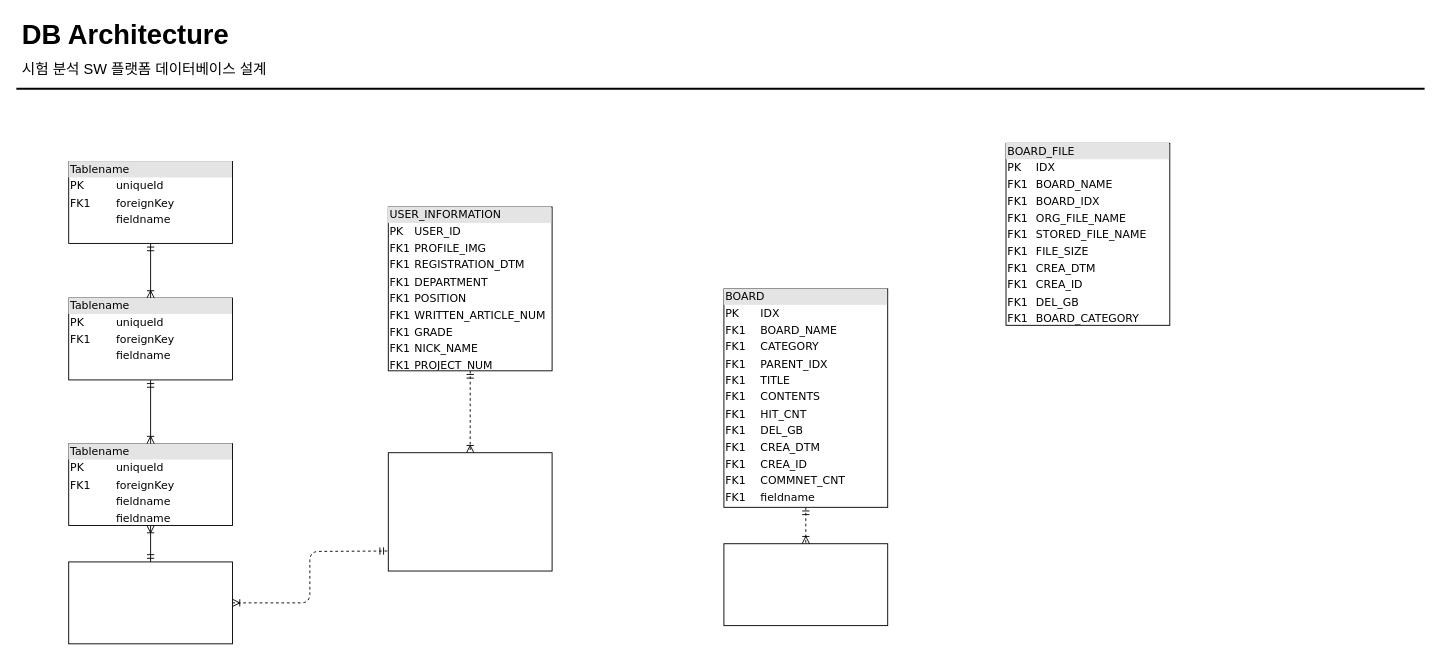
Image size: 1441x660. Some labels were removed from this diagram. The centre of each missing label's shape, as x and y in pixels:
COMMENT PK uniqueId FK1 foreignKey fieldname: [805,584]
USER PK USER_ID FK1 PASSWORD FK1 PHONE FK1 EMAIL FK1 COMPANY FK1 MANAGER: [469,511]
USER_CERTIFICATION PK uniqueId FK1 foreignKey fieldname fieldname: [150,602]
